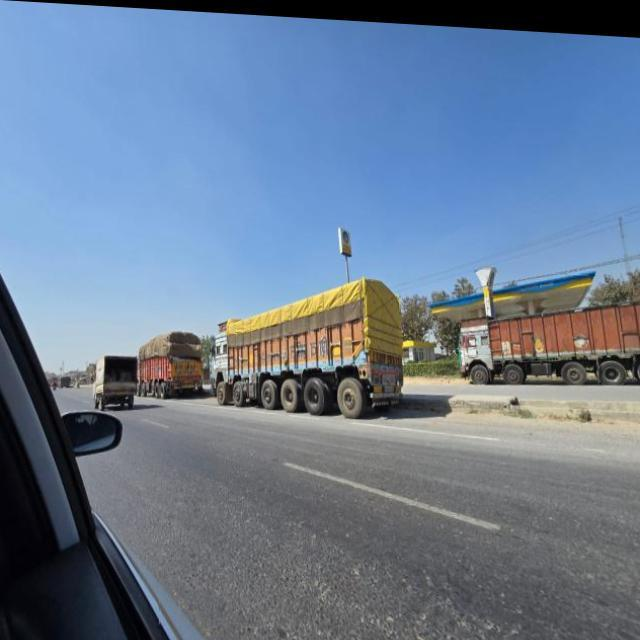covered: (218, 269, 416, 430), (140, 319, 206, 400)
uncovered: (455, 280, 640, 391)
